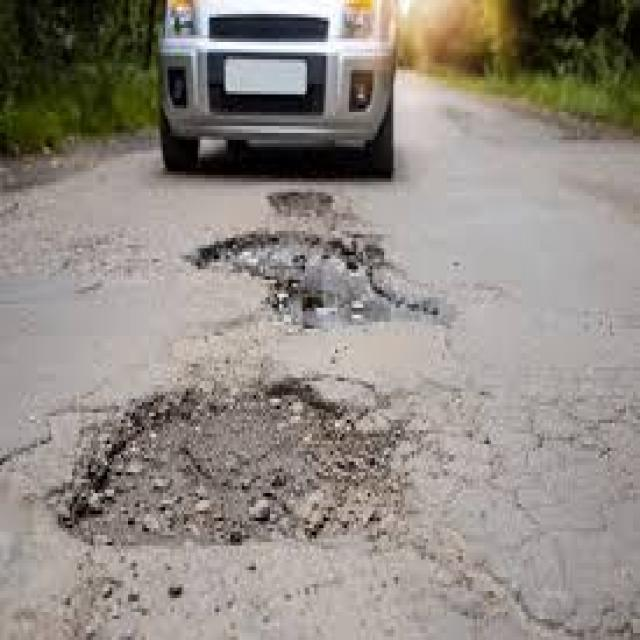Pothole: (95, 395, 396, 535), (200, 234, 438, 329)
